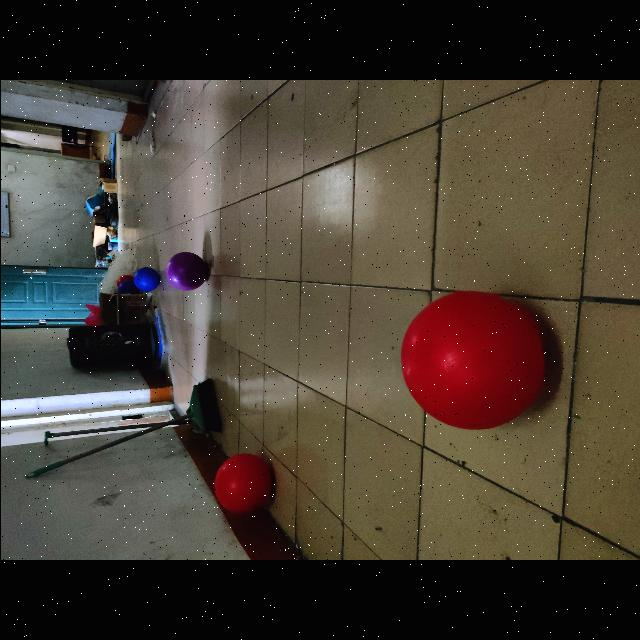B: (133, 266, 159, 292), (118, 280, 138, 302)
P: (163, 250, 207, 290)
R: (398, 294, 546, 428), (213, 452, 279, 516), (116, 276, 134, 292)
